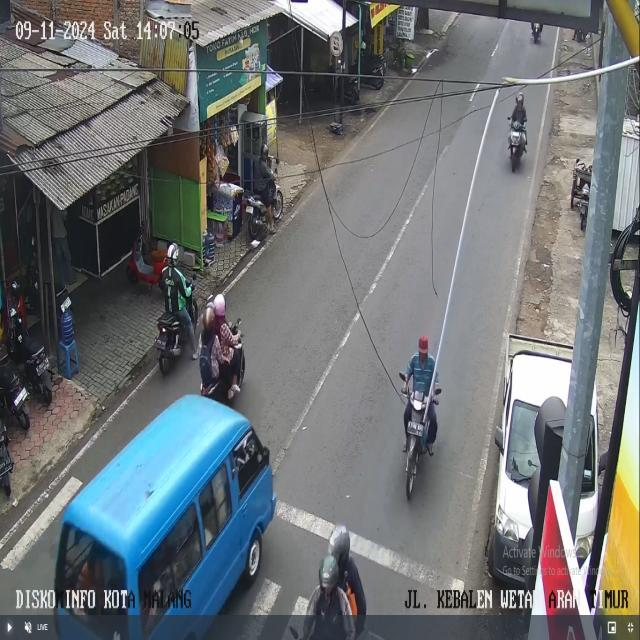Helmet: (328, 525, 349, 567), (319, 554, 338, 589), (203, 306, 214, 333), (213, 294, 225, 316), (167, 243, 178, 263), (10, 280, 22, 298), (418, 335, 428, 353), (260, 144, 268, 156), (516, 92, 523, 104)
Number Plate: (407, 421, 423, 436), (14, 388, 27, 406), (36, 358, 48, 375), (60, 297, 70, 312), (155, 336, 166, 349), (9, 307, 16, 316), (246, 205, 253, 213)
Rearview Mirror: (494, 426, 503, 453), (598, 451, 608, 474), (399, 372, 406, 381), (435, 388, 441, 394)
